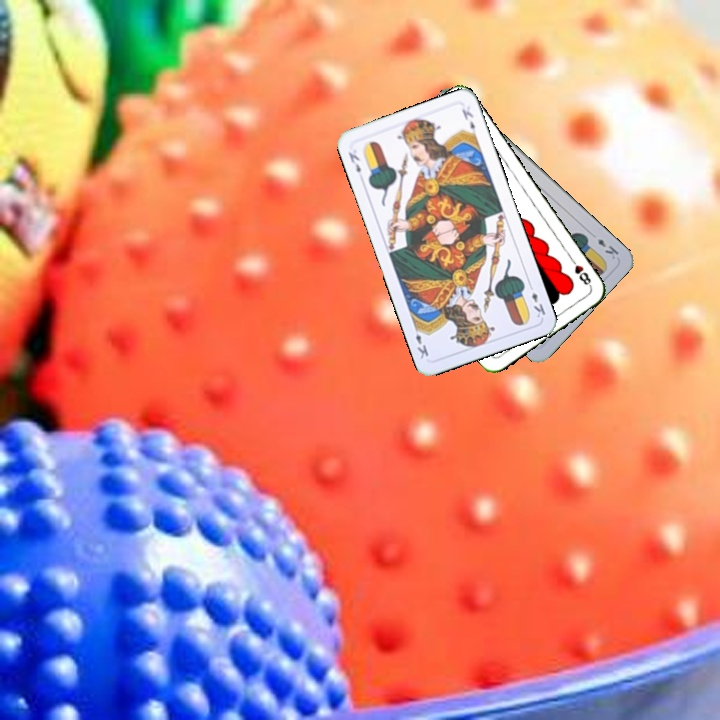EK: (587, 229, 621, 262), (525, 280, 548, 320), (344, 148, 363, 176)
H8: (566, 254, 594, 289)
